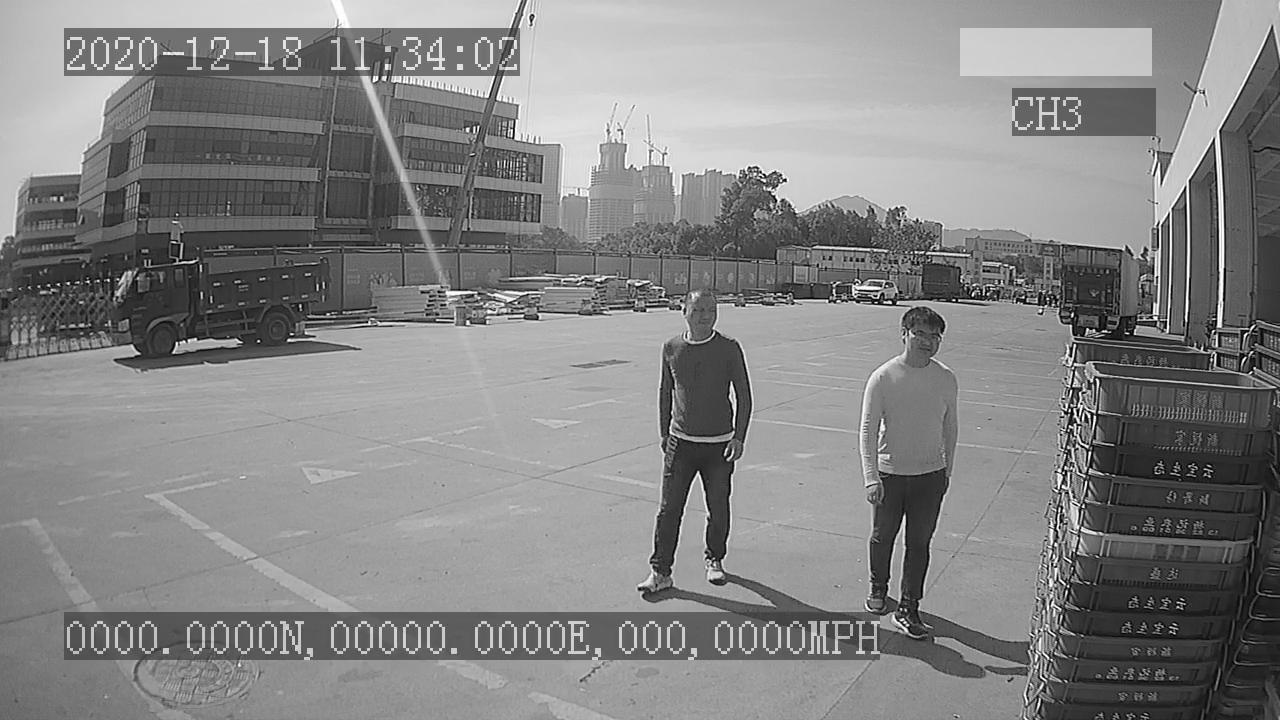person: (634, 287, 755, 594)
